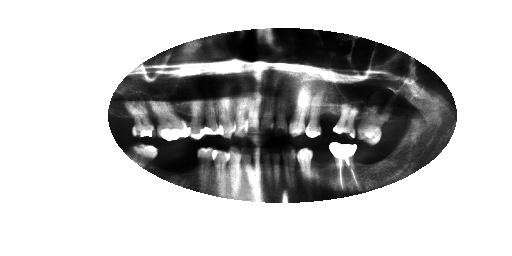i10healthy: (229, 148, 242, 200)
i11healthy: (212, 146, 231, 197)
i12healthy: (198, 145, 213, 192)
i13loss: (185, 146, 198, 189)
i14loss: (172, 146, 185, 184)
i15loss: (158, 146, 171, 182)
i16chipped: (126, 139, 159, 169)
i1loss: (362, 146, 387, 180)
i2healthy: (329, 141, 362, 191)
i3loss: (315, 148, 333, 185)
i4healthy: (297, 146, 315, 180)
i5chipped: (282, 148, 299, 189)
i6decay: (271, 152, 281, 189)
i7decay: (262, 149, 273, 192)
i8healthy: (254, 148, 264, 203)
i9decay: (242, 149, 254, 198)
u10chipped: (236, 97, 246, 137)
u11chipped: (219, 97, 236, 140)
u12healthy: (203, 98, 225, 137)
u13healthy: (188, 98, 204, 138)
u14healthy: (150, 100, 191, 141)
u15chipped: (127, 101, 156, 137)
u16loss: (111, 101, 130, 136)
u1loss: (387, 106, 415, 140)
u2healthy: (357, 101, 390, 144)
u3chipped: (332, 100, 358, 139)
u4loss: (322, 96, 334, 136)
u5healthy: (305, 90, 322, 141)
u6healthy: (288, 86, 313, 138)
u7decay: (275, 85, 289, 138)
u8decay: (260, 84, 275, 135)
u9decay: (247, 97, 261, 140)
